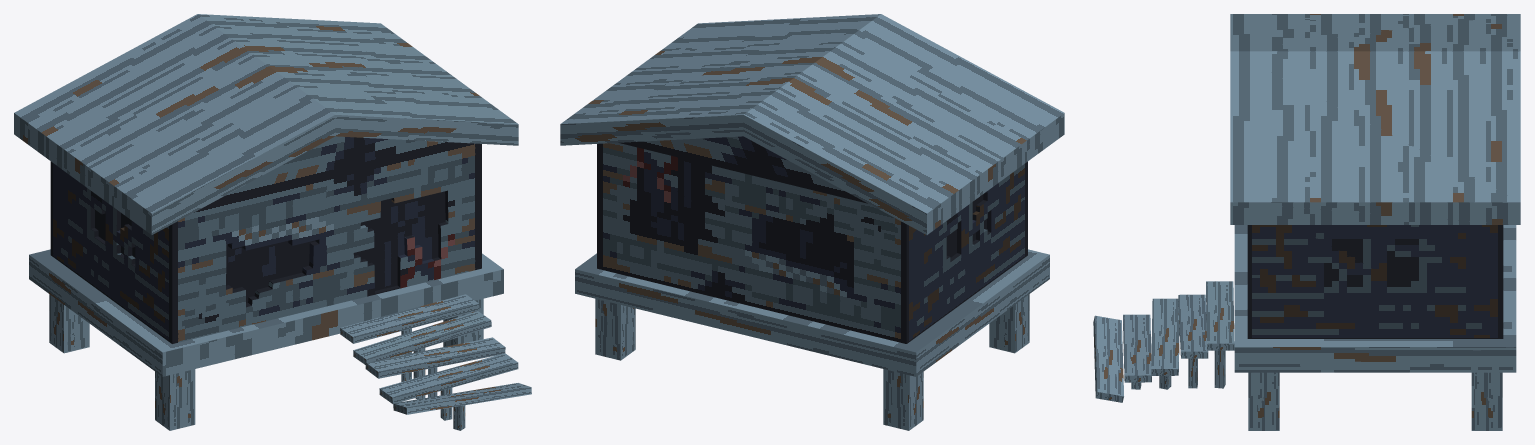
Rendered from pack_2_cabañas.gltf.
3 views of the same model, side by side, from view 1: azimuth 30°, elevation 25°; view 2: azimuth 150°, elevation 25°; view 3: azimuth 270°, elevation 25° (orthographic). The views are drawn at different scales.
Parts seen in each view (by area): view 1: cabaña; view 2: cabaña; view 3: cabaña.
Boxes of the visible parts, box(x1,y1,x2,y2) form: cabaña: box(14, 14, 531, 430); cabaña: box(560, 14, 1064, 430); cabaña: box(1093, 14, 1520, 430).
Bounding box in the file's own units: 5.8 × 4.35 × 5.56.
2 materials, 2 textured.
